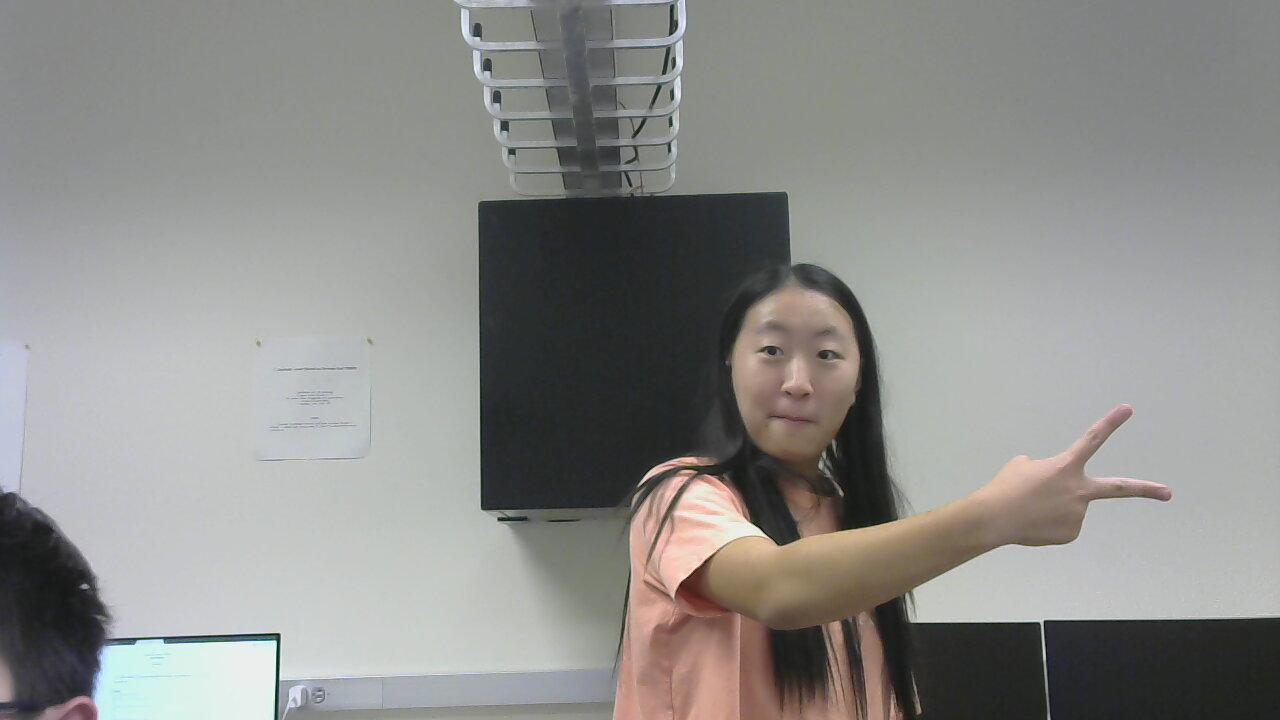peace: (989, 385, 1182, 558)
